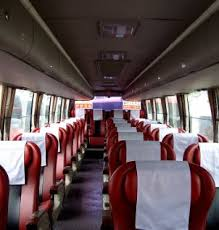seat: (113, 158, 214, 225)
